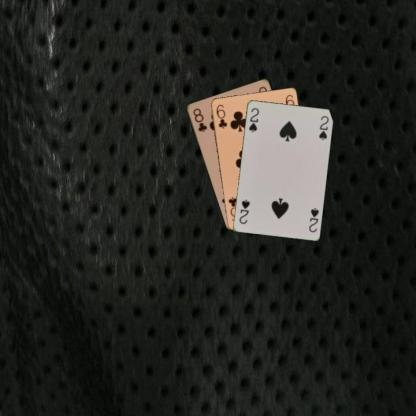2s: (246, 105, 260, 134), (306, 205, 320, 234)
6c: (213, 102, 228, 129)
8c: (190, 106, 208, 133)
